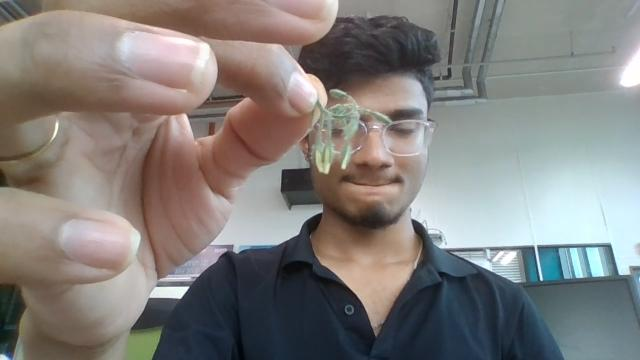Flower Bud: (327, 89, 388, 124), (338, 110, 360, 173), (315, 142, 333, 175), (357, 107, 391, 124), (340, 144, 354, 171)
